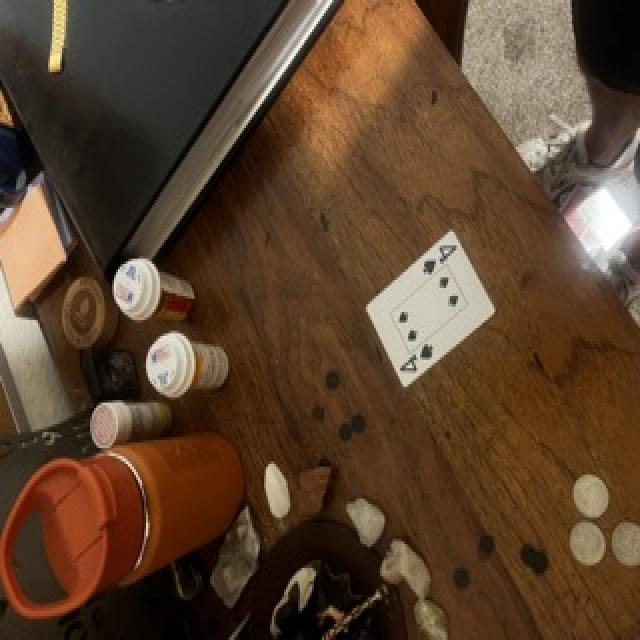4 of spades: (366, 230, 495, 387)
